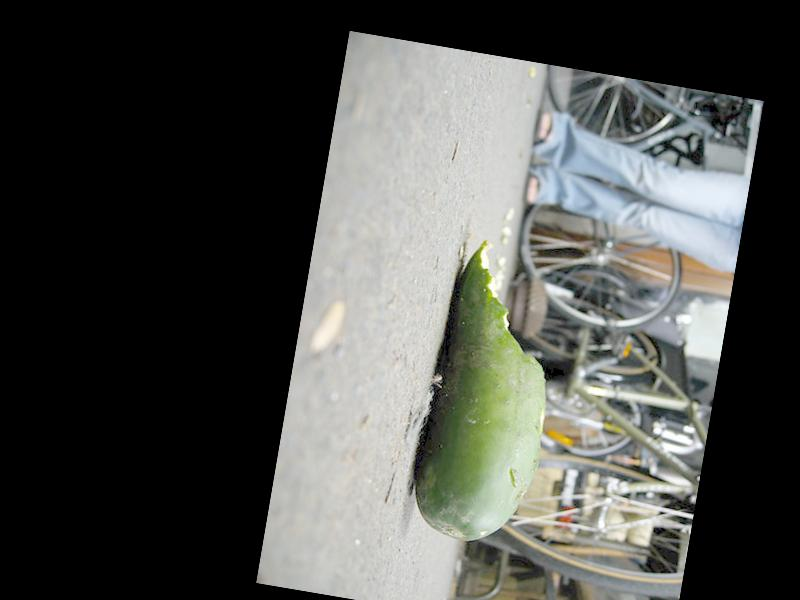Cucumber: (407, 231, 573, 549)
